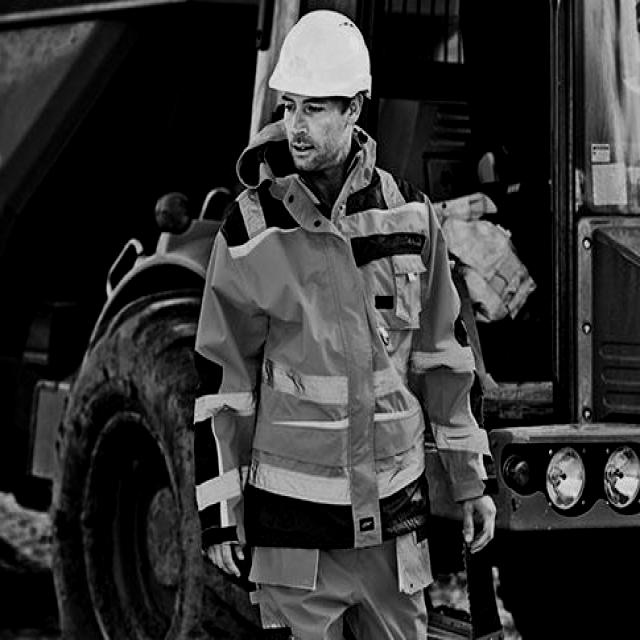face_nomask: (277, 94, 356, 170)
hand_noglove: (454, 494, 500, 562), (197, 533, 250, 581)
head_helmet: (269, 9, 372, 98)
person: (194, 9, 496, 640)
